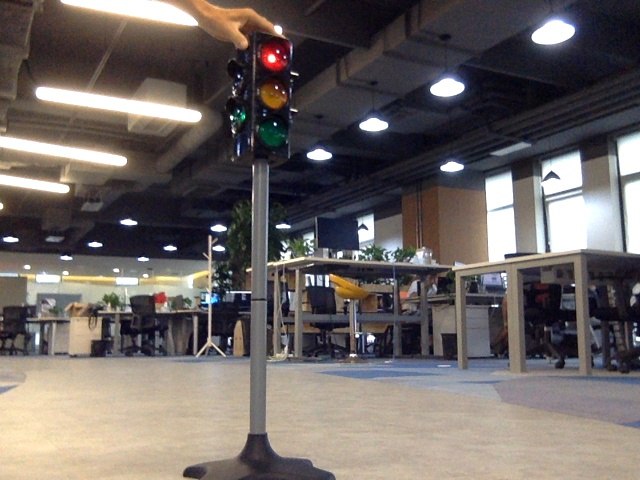red: (254, 36, 286, 145)
